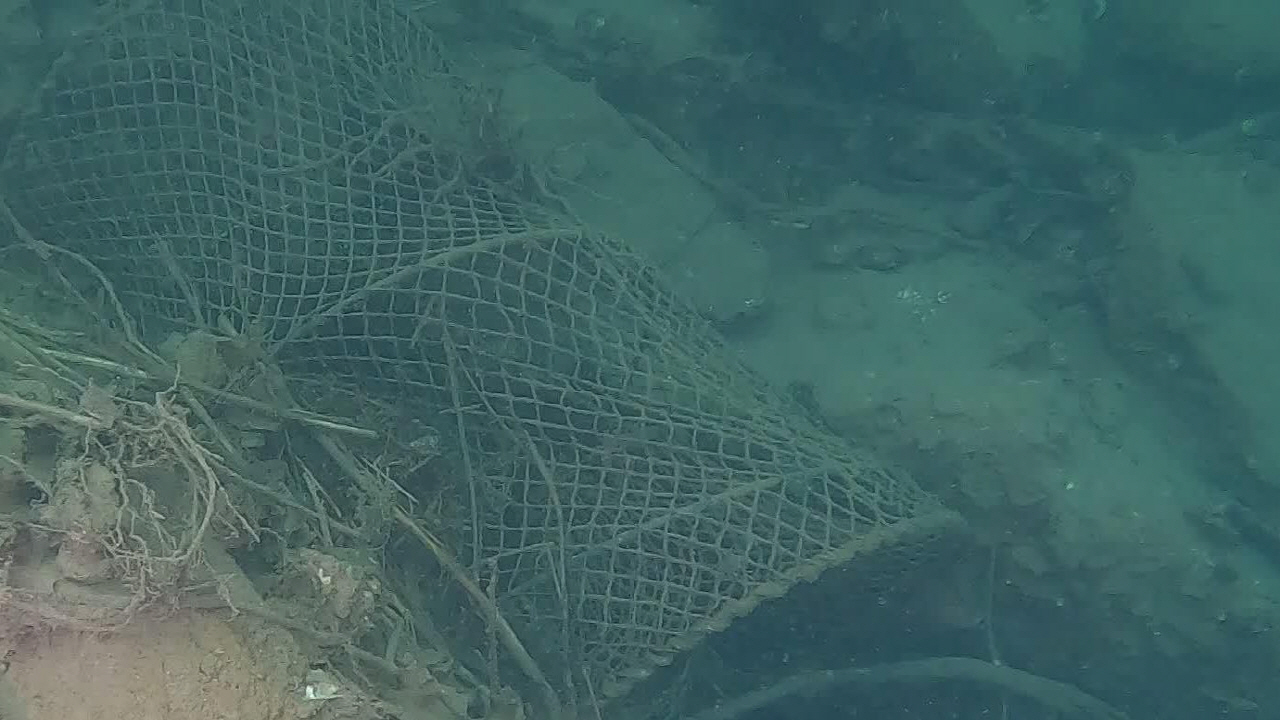spring fish trap: (0, 0, 964, 715)
